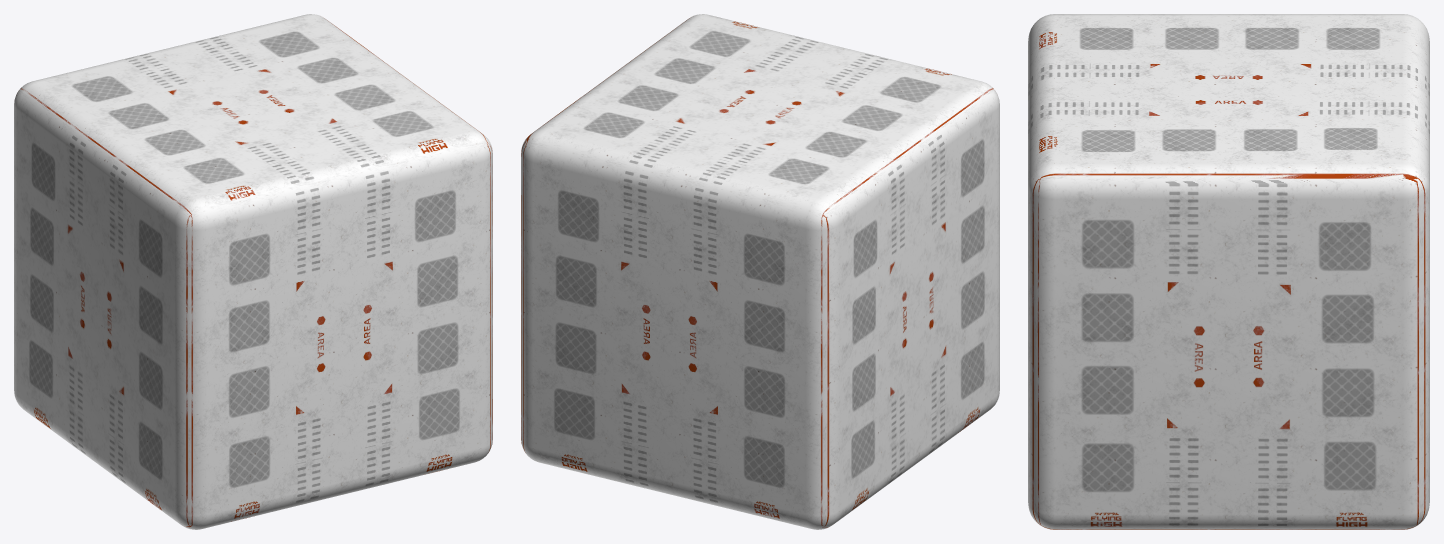
The model's file is hudson-spaceport.glb.
3 views of the same model, side by side, from view 1: azimuth 30°, elevation 25°; view 2: azimuth 150°, elevation 25°; view 3: azimuth 270°, elevation 25° (orthographic). The views are drawn at different scales.
Parts seen in each view (by area): view 1: Cube; view 2: Cube; view 3: Cube.
Boxes of the visible parts, x1,y1,x2,y2 form: Cube: (14,14,492,529); Cube: (521,14,999,529); Cube: (1028,14,1429,529).
Bounding box in the file's own units: 123 × 123 × 123.
4 materials, 4 textured.
